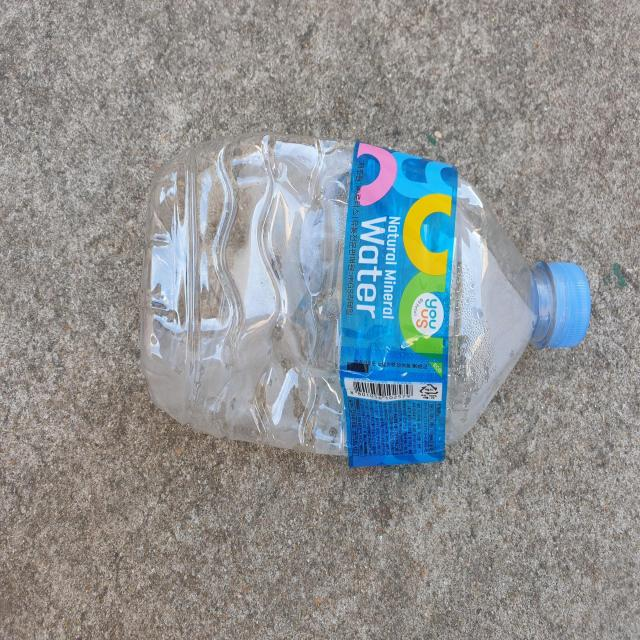plastic: (141, 133, 592, 467)
